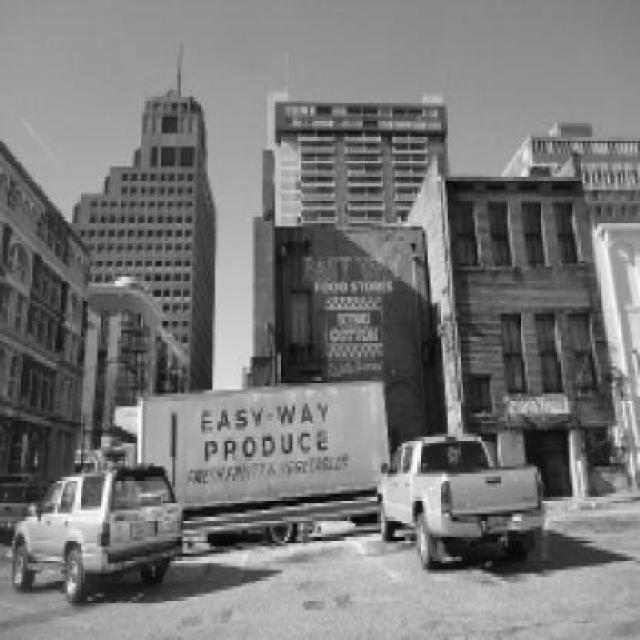Box Truck: (92, 382, 387, 545)
Pickup: (381, 436, 548, 570)
SUV: (12, 465, 183, 607)
